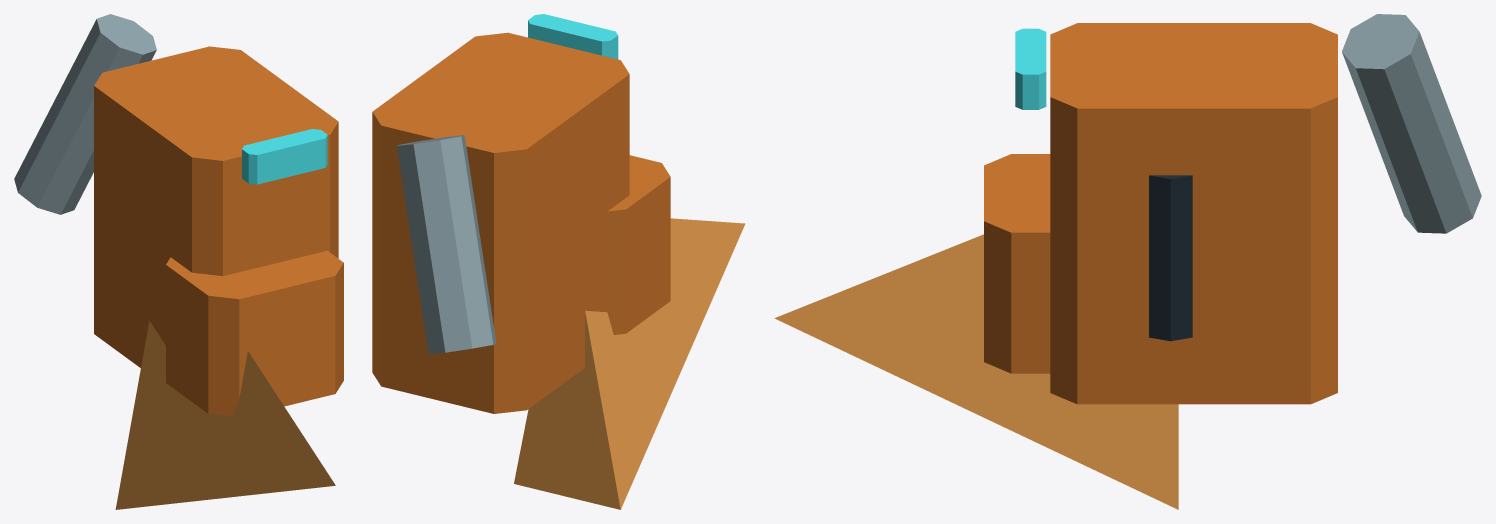
Rendered from enemy_runner_forearm_l.obj.
The picture shows the model from 3 angles, left to right: view 1: azimuth 30°, elevation 25°; view 2: azimuth 150°, elevation 25°; view 3: azimuth 270°, elevation 25°; orthographic projection. The views are drawn at different scales.
Size of the model in its own units: 0.3316 by 0.6816 by 0.91.
